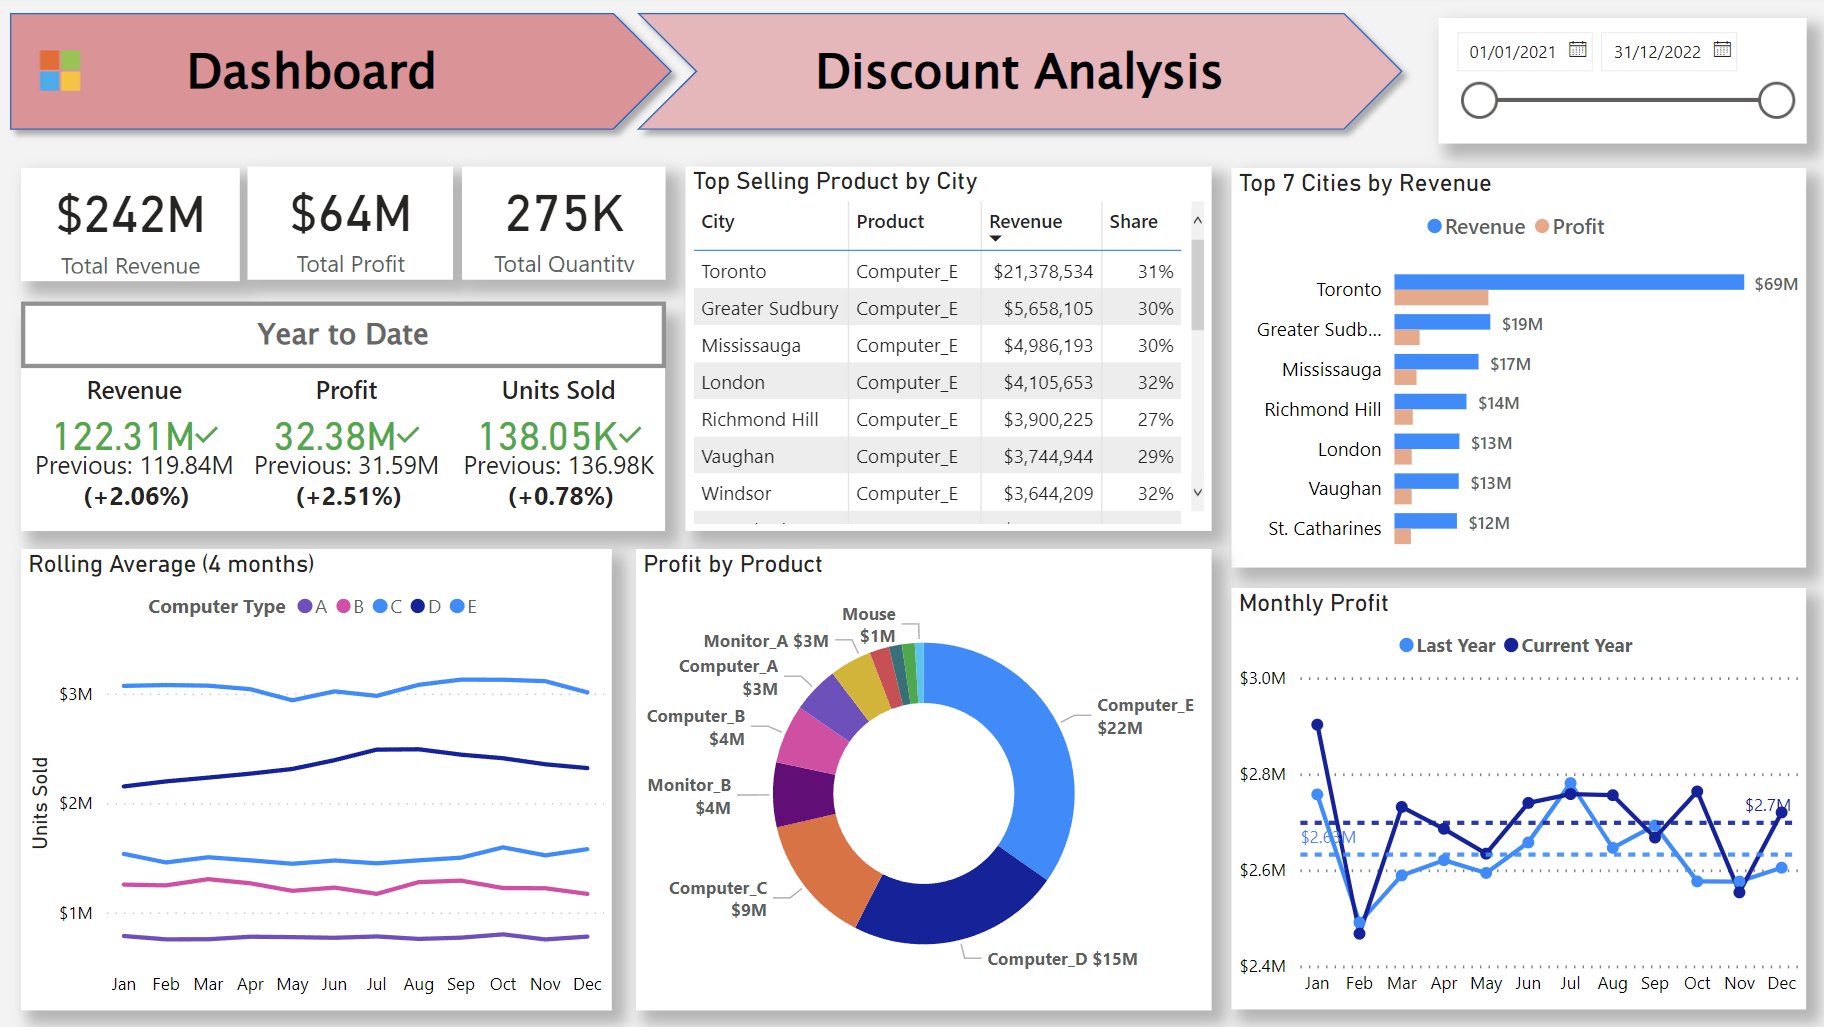

What the dashboard file says about the page in this screenshot:
{"tool":"powerbi","page":{"name":"Main Dashboard","canvas":[1280,720],"ordinal":0},"visuals":[{"type":"shape","box":[0,0,482.2,100],"z":0},{"type":"kpi","title":"Profit","fields":{"Indicator":["Measure.YTD Profit"],"Goal":["Measure.Previous YTD Profit"],"TrendLine":["Dim_Date.Date Hierarchy.Year"]},"box":[170.1,260.5,149.1,111.2],"z":0,"group":"g1"},{"type":"kpi","title":"Revenue","fields":{"TrendLine":["Dim_Date.Date Hierarchy.Year"],"Indicator":["Measure.YTD Revenue"],"Goal":["Measure.Previous YTD Revenue"]},"box":[16.8,260.5,158.5,111.2],"z":1000,"group":"g1"},{"type":"shape","box":[16.8,215.5,451.4,156.8],"z":1000},{"type":"kpi","title":"Units Sold","fields":{"TrendLine":["Dim_Date.Date Hierarchy.Year"],"Indicator":["Measure.YTD Units Sold"],"Goal":["Measure.Previous YTD Units Sold"]},"box":[319.2,260.5,148,111.2],"z":2000,"group":"g1"},{"type":"shape","box":[438.9,0,554.4,100],"z":2000},{"type":"card","fields":{"Values":["Fact_Sales.Total Sales"]},"box":[16.8,117.3,153.2,79.1],"z":3000},{"type":"card","fields":{"Values":["Fact_Sales.Total Profit/Loss"]},"box":[175.7,117.1,144.3,79.3],"z":4000},{"type":"card","fields":{"Values":["Fact_Sales.Total Quantity"]},"box":[325.7,117.1,142.9,79.3],"z":5000},{"type":"tableEx","title":"Top Selling Product by City","fields":{"Values":["Dim_Client.City","Dim_Product.prod_name","Measure.Top selling Product sales","Measure.% of Overall"]},"box":[482.1,117.1,368.6,255],"z":6000},{"type":"lineChart","title":"Rolling Average (4 months)  ","fields":{"Y":["Measure.Rolling 4 month avg sales"],"Category":["Dim_Date.Date Hierarchy.Month"],"Series":["Dim_Product.comp name short"]},"box":[16.8,384.2,413.7,323.2],"z":7000},{"type":"slicer","fields":{"Values":["Dim_Date.Date"]},"box":[1010,12.2,257.8,87.8],"z":8000},{"type":"clusteredBarChart","title":"Top 7 Cities by Revenue","fields":{"Category":["Dim_Client.City"],"Y":["Measure.Total Revenue","Measure.Total Profit"]},"box":[865,117.5,402.5,280],"z":9000},{"type":"donutChart","title":"Profit by Product","fields":{"Category":["Dim_Product.prod_name"],"Y":["Measure.Total Profit"]},"box":[447.4,384.2,403.2,323.2],"z":10000},{"type":"lineChart","title":"Monthly Profit","fields":{"Category":["Dim_Date.Date Hierarchy.Month"],"Y":["Measure.Last Year Profit","Measure.Current Year Profit"]},"box":[865,412.5,402.5,295],"z":11000},{"type":"shape","box":[16.8,211.4,451.8,46.4],"z":12000},{"type":"group","id":"g1","title":"KPI YTD","box":[16.8,260.5,451.4,110.5],"z":13000},{"type":"image","box":[16.7,22.2,54.4,54.4],"z":14000}]}

Visuals, with their boxes in screenshot pixels (x1, y1, x2, y2), scaled from the page's 1280x720 canvas onto the 1824x1027 screenshot:
shape: bbox=[0, 0, 687, 143]
"Profit" kpi: bbox=[242, 372, 455, 530]
"Revenue" kpi: bbox=[24, 372, 250, 530]
shape: bbox=[24, 307, 667, 531]
"Units Sold" kpi: bbox=[455, 372, 666, 530]
shape: bbox=[625, 0, 1415, 143]
card - Fact_Sales.Total Sales: bbox=[24, 167, 242, 280]
card - Fact_Sales.Total Profit/Loss: bbox=[250, 167, 456, 280]
card - Fact_Sales.Total Quantity: bbox=[464, 167, 668, 280]
"Top Selling Product by City" tableEx: bbox=[687, 167, 1212, 531]
"Rolling Average (4 months)  " lineChart: bbox=[24, 548, 613, 1009]
slicer - Dim_Date.Date: bbox=[1439, 17, 1807, 143]
"Top 7 Cities by Revenue" clusteredBarChart: bbox=[1233, 168, 1806, 567]
"Profit by Product" donutChart: bbox=[638, 548, 1212, 1009]
"Monthly Profit" lineChart: bbox=[1233, 588, 1806, 1009]
shape: bbox=[24, 302, 668, 368]
"KPI YTD" group: bbox=[24, 372, 667, 529]
image: bbox=[24, 32, 101, 109]
